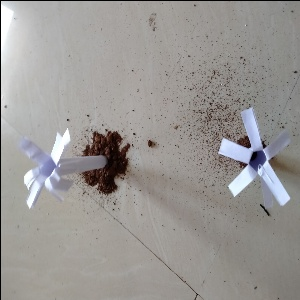weed: (17, 133, 110, 206), (217, 118, 286, 203)
